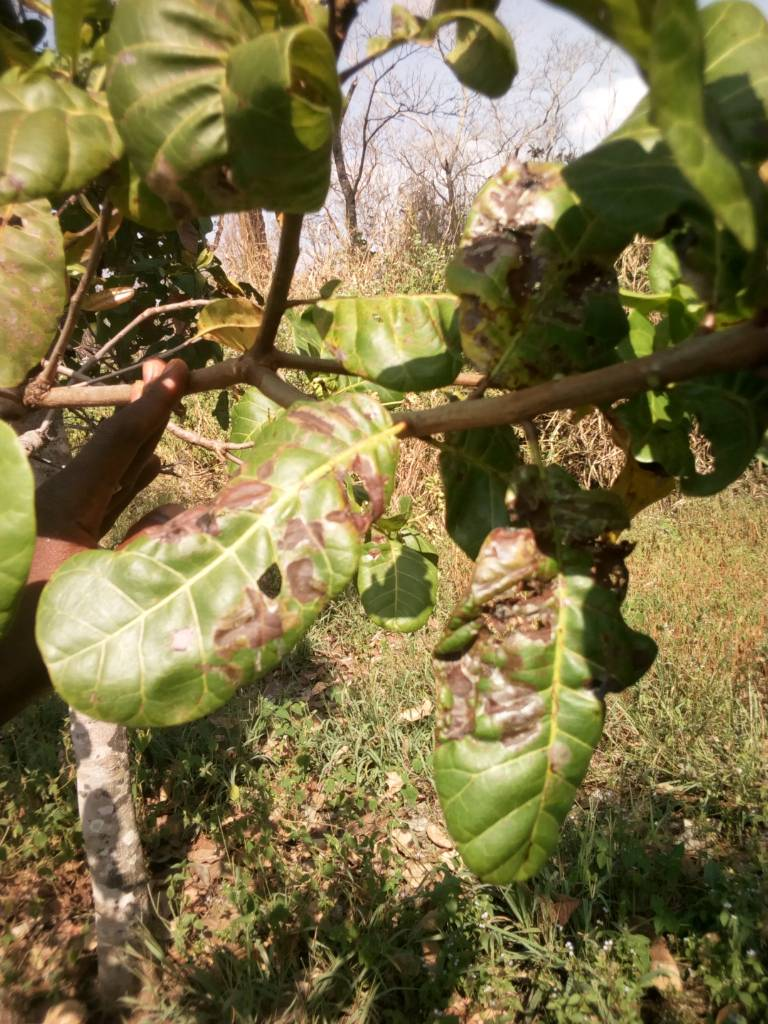Helopeltis anacardii: (35, 399, 396, 724), (433, 458, 629, 882), (107, 2, 355, 219), (450, 147, 666, 388)
